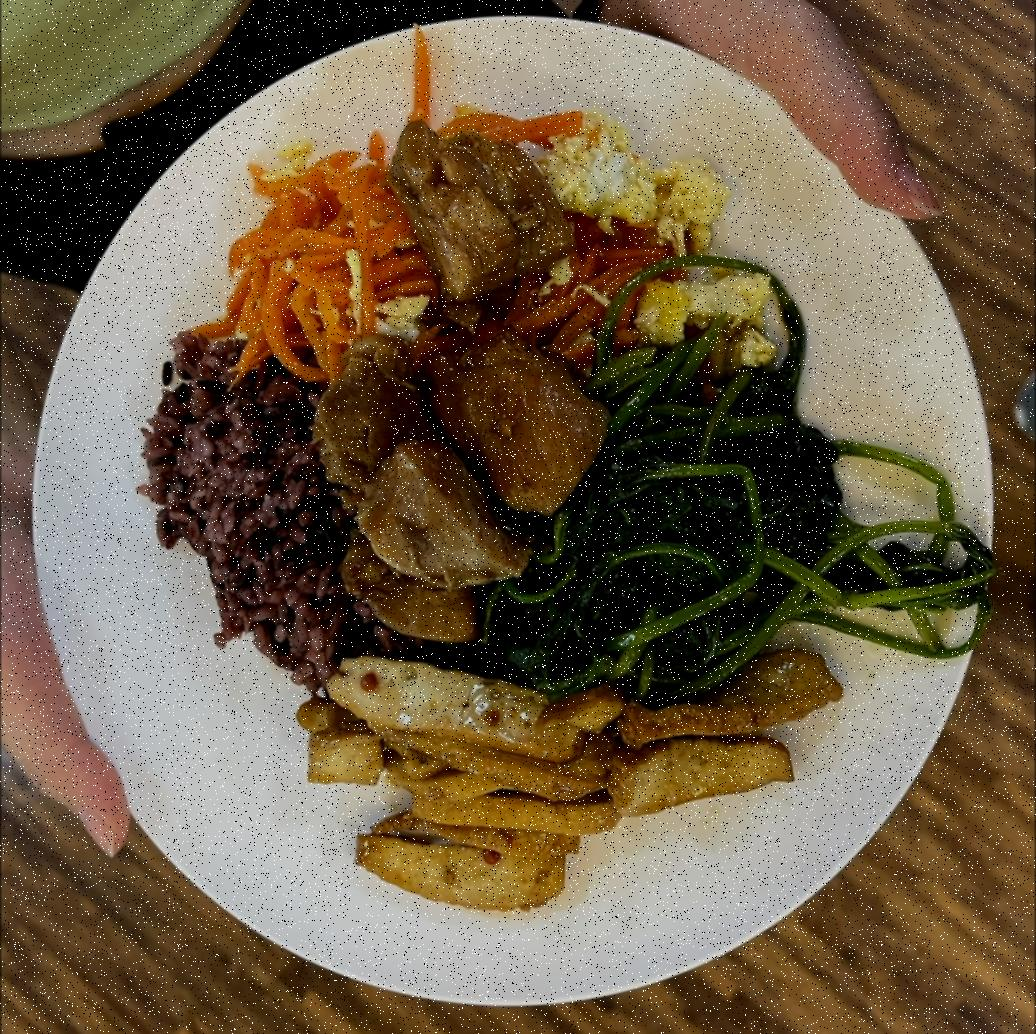plate: (49, 8, 989, 1000)
purple rice: (132, 317, 352, 690)
side dish: (492, 366, 984, 690), (292, 642, 832, 907), (234, 98, 733, 370)
three cup chicken: (307, 126, 598, 672)
